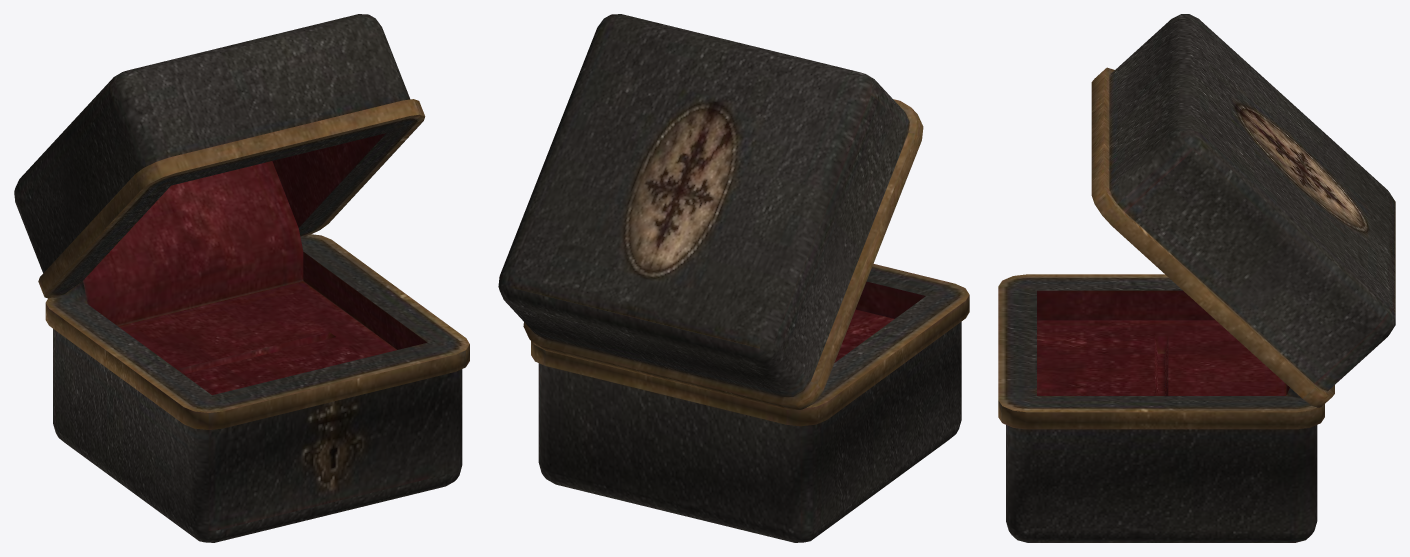
Rendered from RingBox.fbx.
3 views of the same model, side by side, from view 1: azimuth 30°, elevation 25°; view 2: azimuth 150°, elevation 25°; view 3: azimuth 270°, elevation 25° (orthographic). The views are drawn at different scales.
Parts seen in each view (by area): view 1: RingBox_Baked; view 2: RingBox_Baked; view 3: RingBox_Baked.
Part boxes in pixels (x1,y1,x2,y2): RingBox_Baked: (14,14,469,542); RingBox_Baked: (498,14,969,542); RingBox_Baked: (998,14,1395,542).
Size of the model in its own units: 5.24 by 7.29 by 6.38.
Materials: 1 (1 with a texture image).
